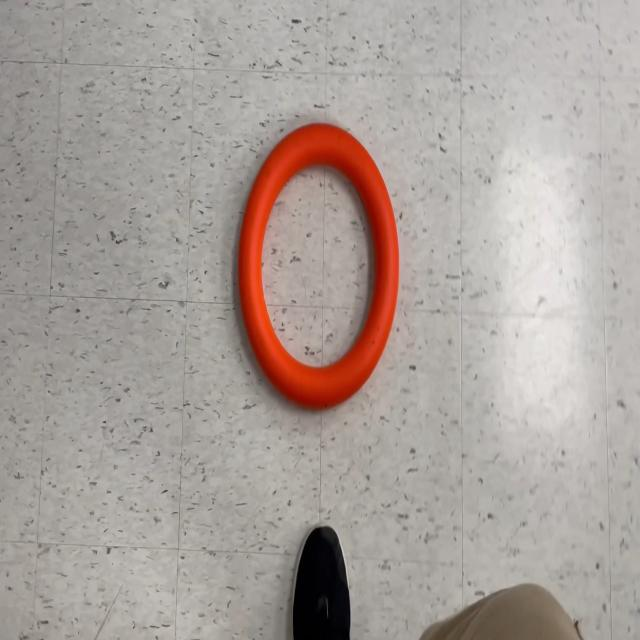note: (237, 121, 402, 412)
